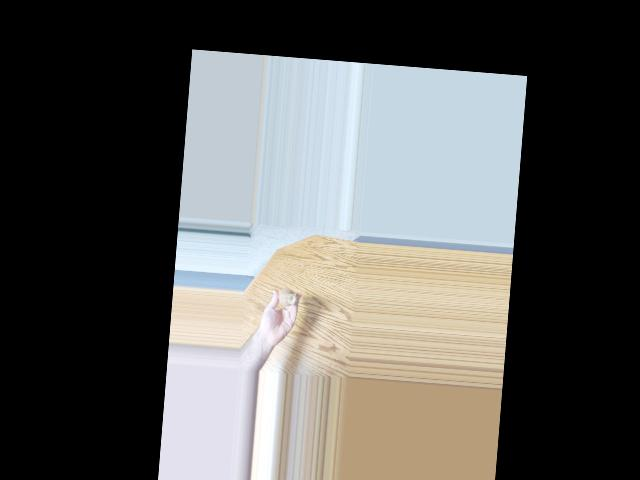sweet_potato: (277, 286, 296, 306)
